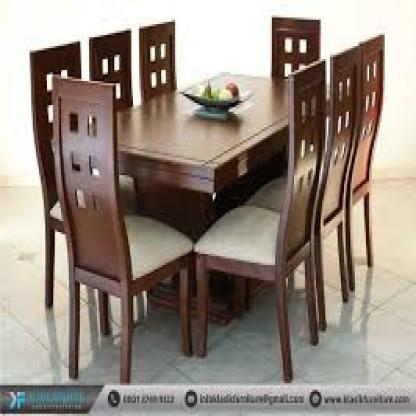Dining Table: (26, 12, 411, 381)
